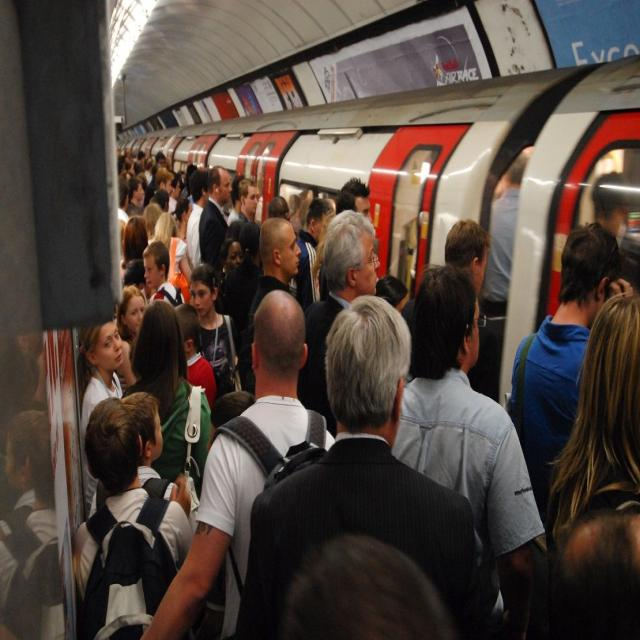body: (237, 290, 489, 639), (139, 287, 338, 640), (391, 262, 545, 640), (510, 220, 635, 563), (73, 396, 194, 640), (549, 288, 639, 545), (121, 299, 212, 535), (295, 208, 382, 439), (86, 390, 197, 529), (278, 548, 446, 636), (4, 411, 70, 630), (476, 150, 534, 395), (240, 216, 303, 394), (553, 516, 639, 638), (403, 219, 494, 331), (76, 313, 124, 523), (189, 265, 238, 394), (113, 142, 189, 215), (290, 196, 336, 312), (173, 301, 218, 412), (146, 210, 192, 289), (198, 165, 233, 268), (108, 216, 142, 315), (141, 238, 186, 308), (185, 167, 211, 274), (584, 170, 626, 230), (334, 176, 374, 224), (226, 173, 247, 227), (170, 196, 193, 244), (237, 177, 259, 223), (267, 194, 293, 224)
